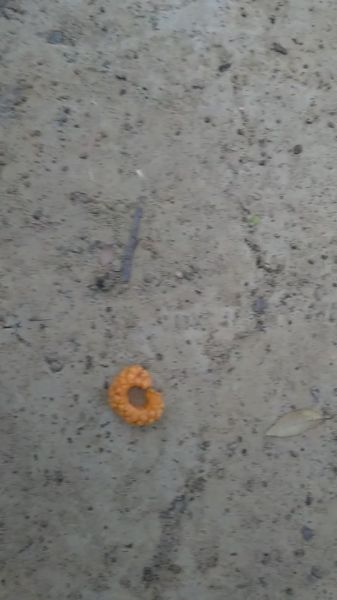eggs: (105, 358, 174, 435)
